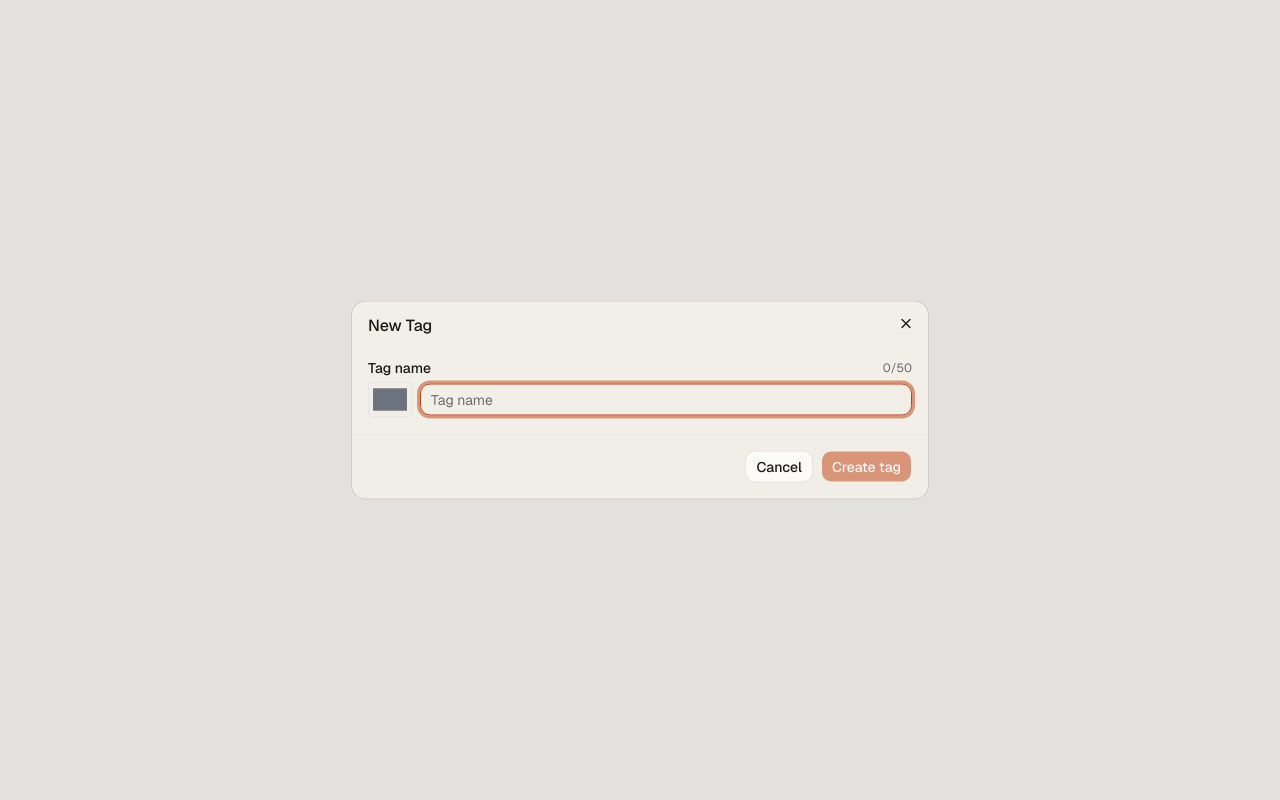
Test: LabelFormDialog › stays open with the message and keeps what was typed when the save is refused
The image size is (1280, 800).
Type "Urgent" into the field with placeholder "Tag name" at (666, 400), box [420, 384, 912, 416]
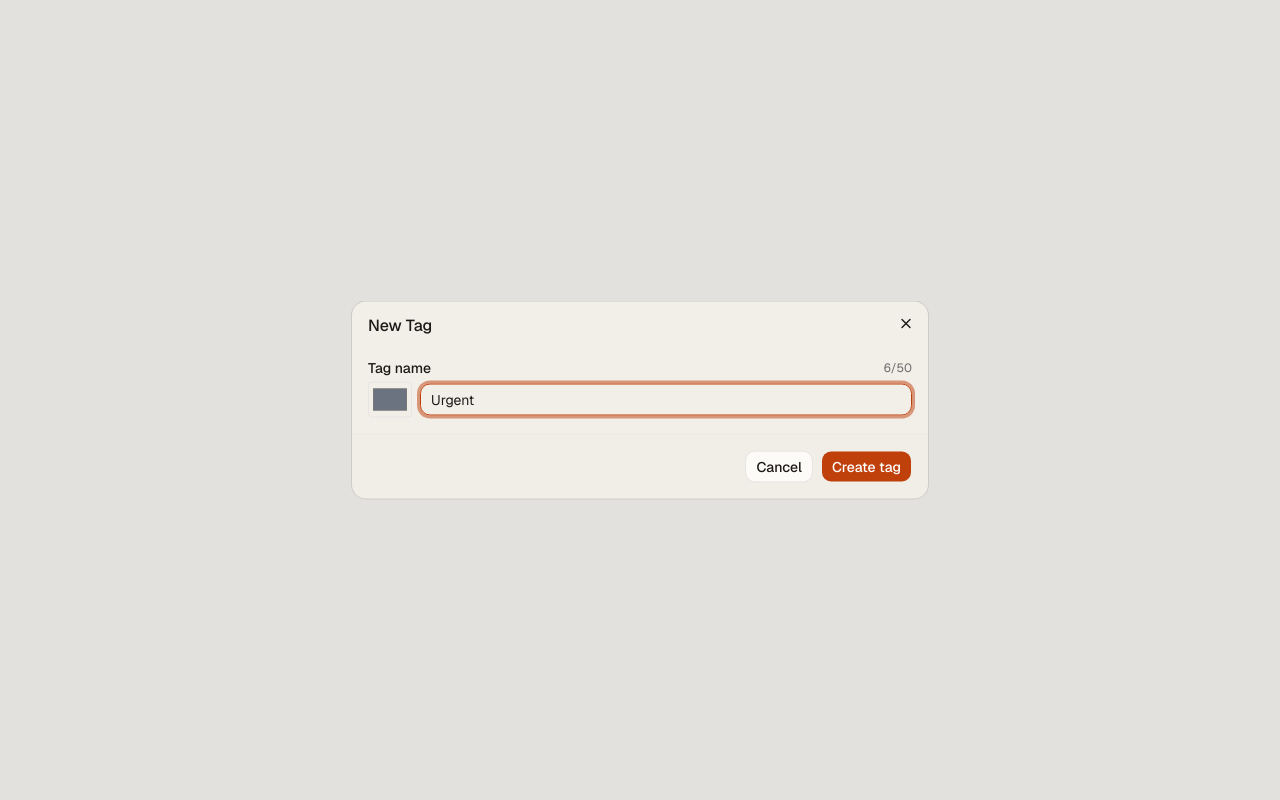
Click the button "Create tag" at (866, 466), box [821, 450, 912, 482]
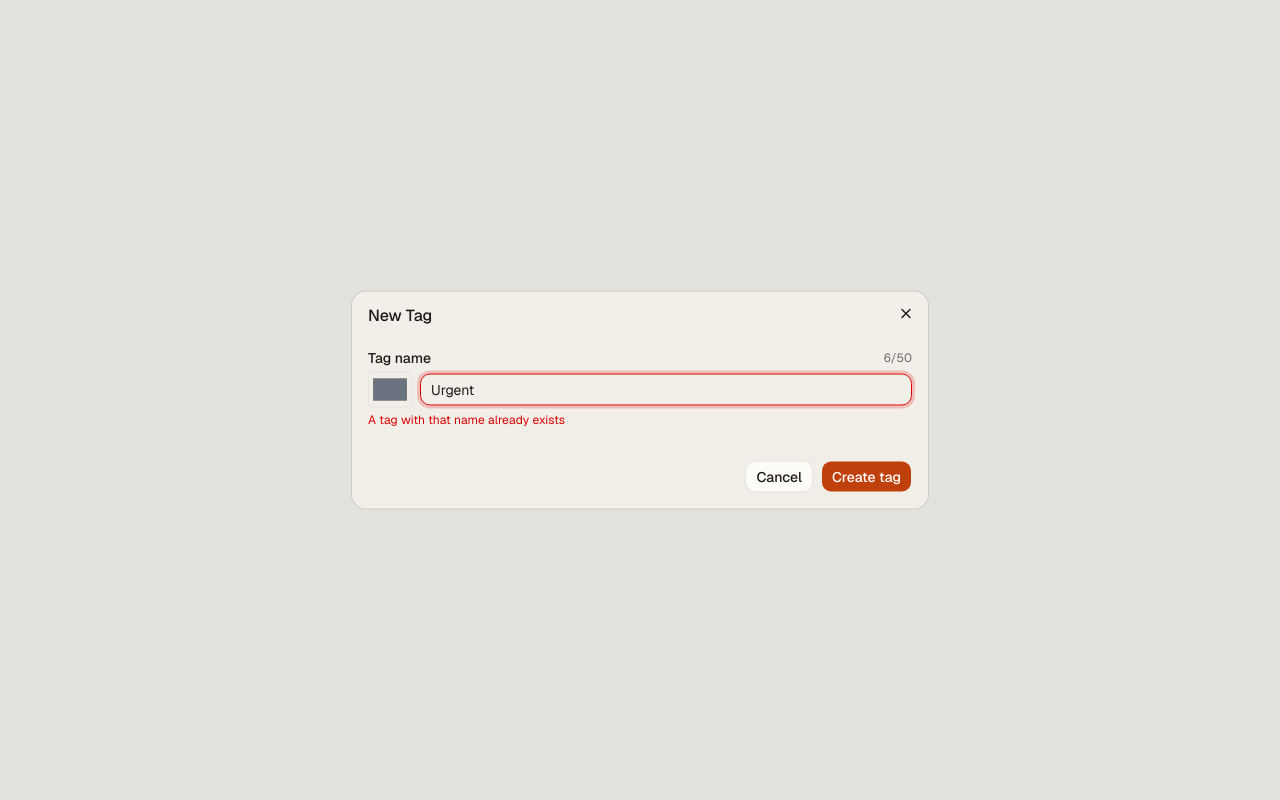
Now the button "Create tag" is enabled, box [821, 460, 912, 492]
Now the text "A tag with that name already exists" is shown, box [368, 412, 565, 428]
